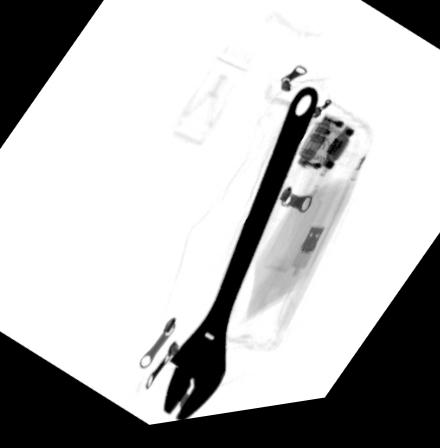Wrench: (161, 95, 318, 426)
